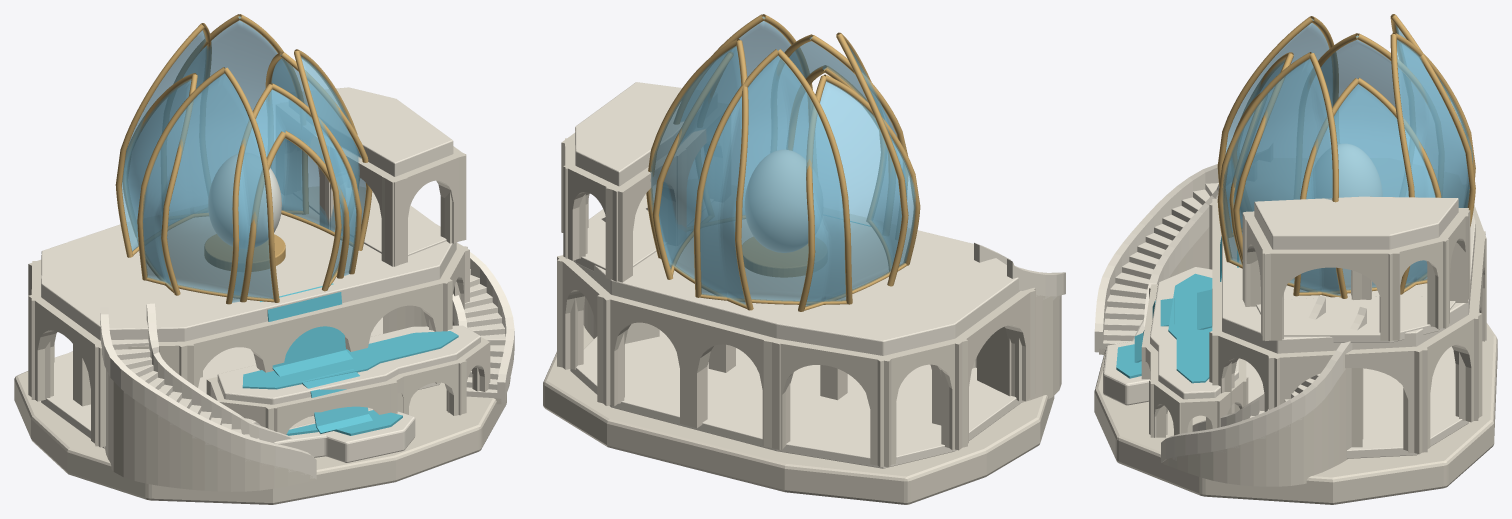
Rendered from family02-blockout-b03.glb.
3 views of the same model, side by side, from view 1: azimuth 30°, elevation 25°; view 2: azimuth 150°, elevation 25°; view 3: azimuth 270°, elevation 25° (orthographic). The views are drawn at different scales.
Visible parts, largest first — view 1: terraces-level1-ivory-limestone, conservatory-level2-blue-petal-glass, wings-level1-light-limestone, terraces-level1-light-limestone, wings-level1-ivory-limestone, conservatory-level1-blue-petal-glass, terraces-level1-cascade-water, conservatory-level2-structural-brass, conservatory-level1-structural-brass, wings-level2-light-limestone, wings-level2-ivory-limestone, egg-level1-pale-egg (+1 smaller); view 2: wings-level1-light-limestone, conservatory-level2-blue-petal-glass, wings-level1-ivory-limestone, terraces-level1-ivory-limestone, conservatory-level1-blue-petal-glass, conservatory-level2-structural-brass, wings-level2-light-limestone, wings-level2-ivory-limestone, conservatory-level1-structural-brass, egg-level1-pale-egg, terraces-level1-light-limestone, egg-level1-structural-brass; view 3: terraces-level1-ivory-limestone, conservatory-level2-blue-petal-glass, terraces-level1-light-limestone, wings-level1-ivory-limestone, conservatory-level1-blue-petal-glass, wings-level2-light-limestone, wings-level2-ivory-limestone, wings-level1-light-limestone, conservatory-level2-structural-brass, conservatory-level1-structural-brass, terraces-level1-cascade-water, egg-level1-pale-egg.
Boxes of the visible parts, box(x1,y1,x2,y2) form: terraces-level1-ivory-limestone: box(14, 275, 510, 504); conservatory-level2-blue-petal-glass: box(122, 16, 359, 299); wings-level1-light-limestone: box(41, 207, 456, 448); terraces-level1-light-limestone: box(100, 252, 514, 479); wings-level1-ivory-limestone: box(28, 242, 469, 447); conservatory-level1-blue-petal-glass: box(125, 54, 366, 302); terraces-level1-cascade-water: box(242, 283, 458, 435); conservatory-level2-structural-brass: box(115, 14, 359, 302); conservatory-level1-structural-brass: box(122, 51, 372, 304); wings-level2-light-limestone: box(302, 87, 453, 255); wings-level2-ivory-limestone: box(308, 134, 466, 266); egg-level1-pale-egg: box(208, 154, 281, 246); wings-level1-light-limestone: box(570, 185, 1021, 468); conservatory-level2-blue-petal-glass: box(650, 17, 907, 305); wings-level1-ivory-limestone: box(557, 255, 1035, 467); terraces-level1-ivory-limestone: box(543, 295, 1061, 504); conservatory-level1-blue-petal-glass: box(659, 37, 915, 306); conservatory-level2-structural-brass: box(646, 14, 908, 310); wings-level2-light-limestone: box(575, 82, 683, 271); wings-level2-ivory-limestone: box(561, 129, 706, 282); conservatory-level1-structural-brass: box(652, 34, 920, 311); egg-level1-pale-egg: box(745, 150, 807, 252); terraces-level1-light-limestone: box(601, 207, 1065, 300); egg-level1-structural-brass: box(742, 237, 808, 277); terraces-level1-ivory-limestone: box(1094, 191, 1497, 504); conservatory-level2-blue-petal-glass: box(1222, 18, 1472, 296); terraces-level1-light-limestone: box(1094, 164, 1366, 462); wings-level1-ivory-limestone: box(1209, 198, 1486, 454); conservatory-level1-blue-petal-glass: box(1233, 35, 1435, 292); wings-level2-light-limestone: box(1254, 196, 1458, 342); wings-level2-ivory-limestone: box(1242, 208, 1470, 341); wings-level1-light-limestone: box(1222, 215, 1475, 458); conservatory-level2-structural-brass: box(1217, 14, 1475, 298); conservatory-level1-structural-brass: box(1229, 33, 1441, 296); terraces-level1-cascade-water: box(1116, 236, 1238, 383); egg-level1-pale-egg: box(1338, 144, 1382, 197).
Bounding box in the file's own units: 3.02 × 2.47 × 2.4.
